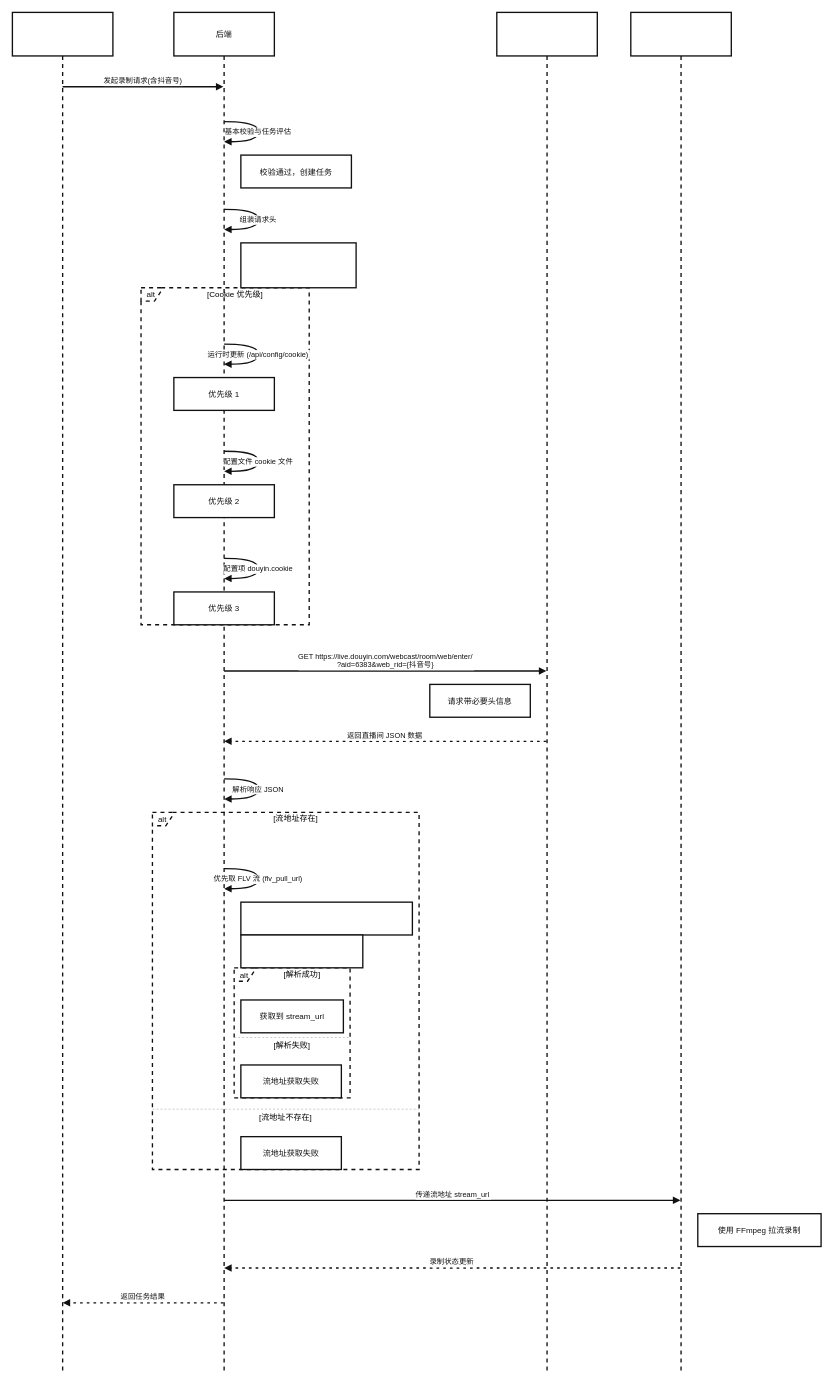
Image size: 833x1385. Some labels were removed from this diagram. Here are the shapes that lost their labels. From the top down, the box of each, then its label:
(240, 242, 356, 288): 包含 User-Agent 按优先级获取 Cookie
(11, 11, 113, 1374): 用户
(496, 11, 598, 1374): 抖音接口
(630, 11, 732, 1374): 录制服务
(240, 901, 413, 935): 若无，则取 HLS 流 (hls_pull_url)
(240, 934, 363, 968): 优先选择最高画质 URL
